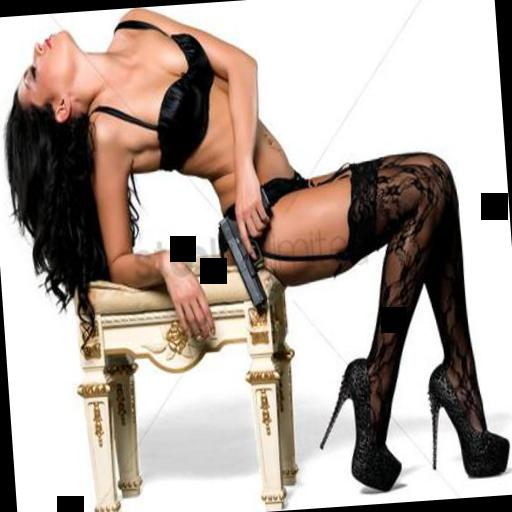Handgun: (211, 182, 283, 306)
